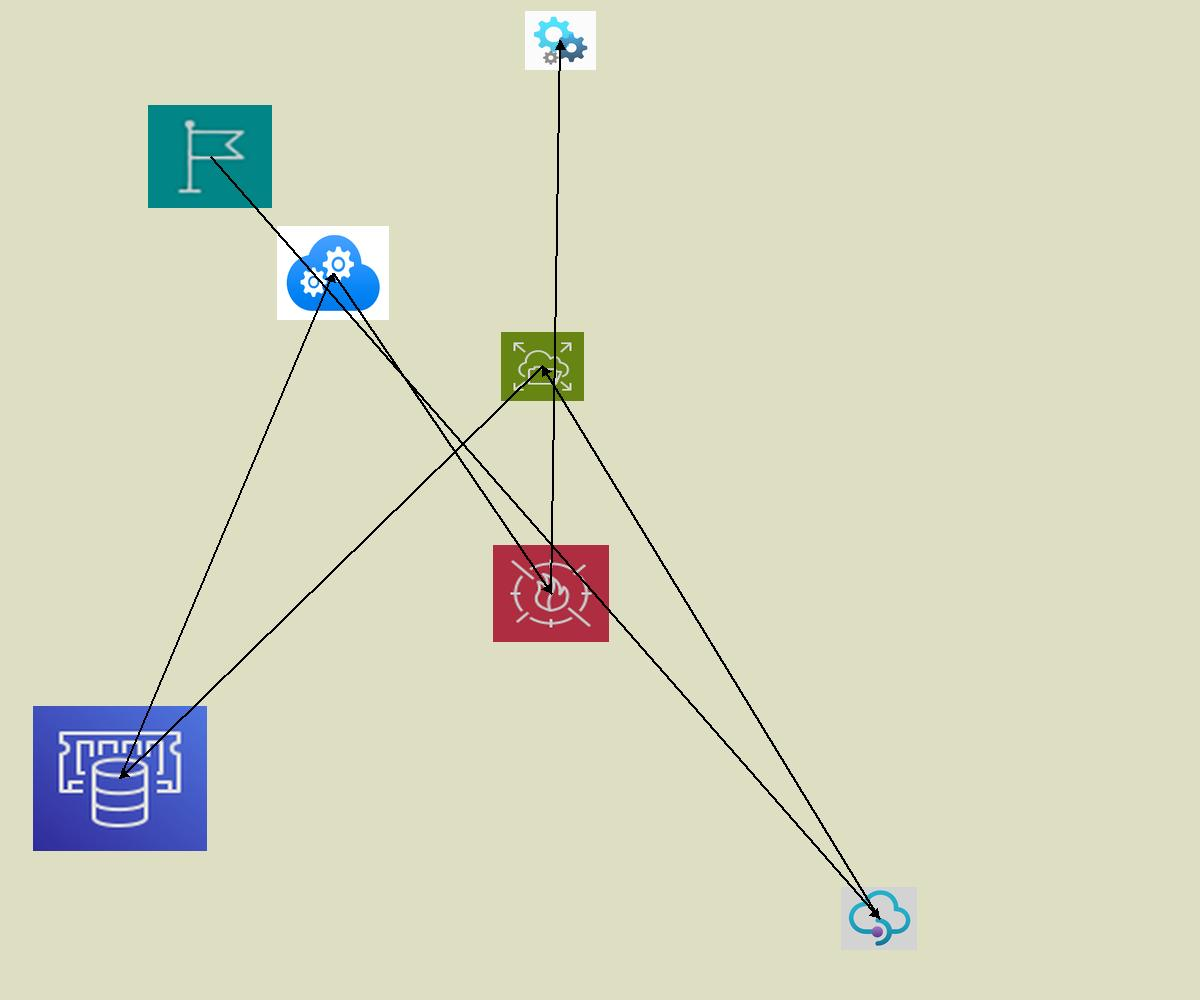AWS-EFS: (501, 332, 584, 401)
AWS-ElastiCache: (33, 706, 207, 851)
AWS-Region: (148, 105, 272, 208)
AWS-WAF: (493, 545, 609, 642)
Azure_api: (525, 11, 596, 70)
Azure_api_gateway: (841, 887, 917, 950)
Azure_cloud_services: (277, 226, 389, 320)
